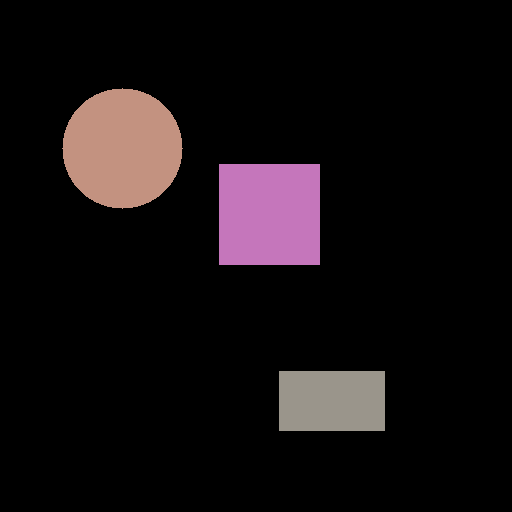circle: (62, 88, 182, 208)
rectangle: (279, 371, 384, 430)
square: (219, 164, 319, 264)
